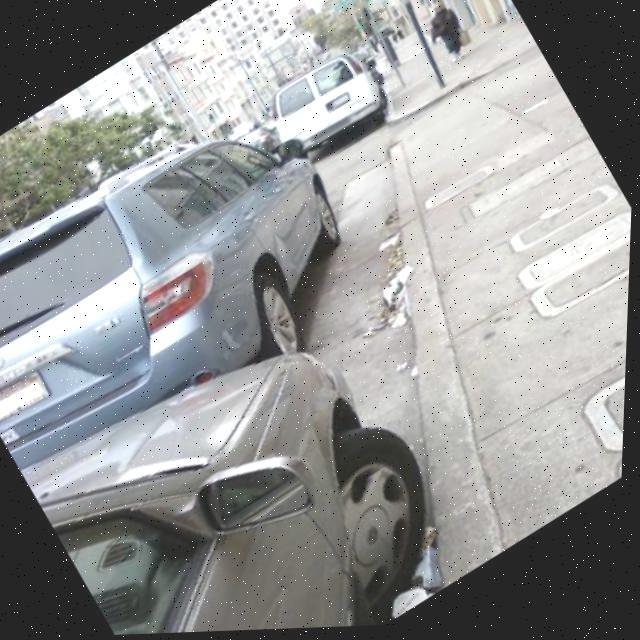license_plate: (0, 367, 55, 429), (326, 94, 354, 115)
